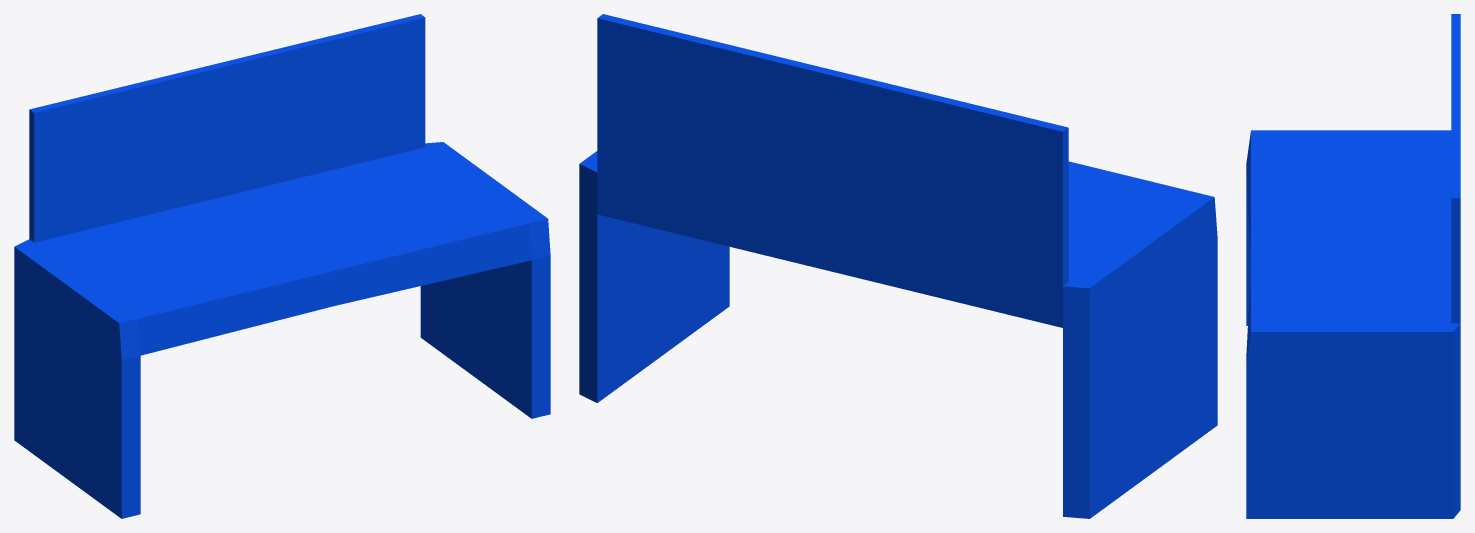
Rendered from study_table_5_meshCollider.fbx.
The picture shows the model from 3 angles, left to right: view 1: azimuth 30°, elevation 25°; view 2: azimuth 150°, elevation 25°; view 3: azimuth 270°, elevation 25°; orthographic projection. The views are drawn at different scales.
Visible parts, largest first — view 1: study_table_5_meshCollider; view 2: study_table_5_meshCollider; view 3: study_table_5_meshCollider.
Boxes of the visible parts, <box> form: study_table_5_meshCollider: <box>14,14,550,518</box>; study_table_5_meshCollider: <box>579,14,1217,518</box>; study_table_5_meshCollider: <box>1246,14,1460,518</box>.
Size of the model in its own units: 99.89 by 72 by 44.83.
